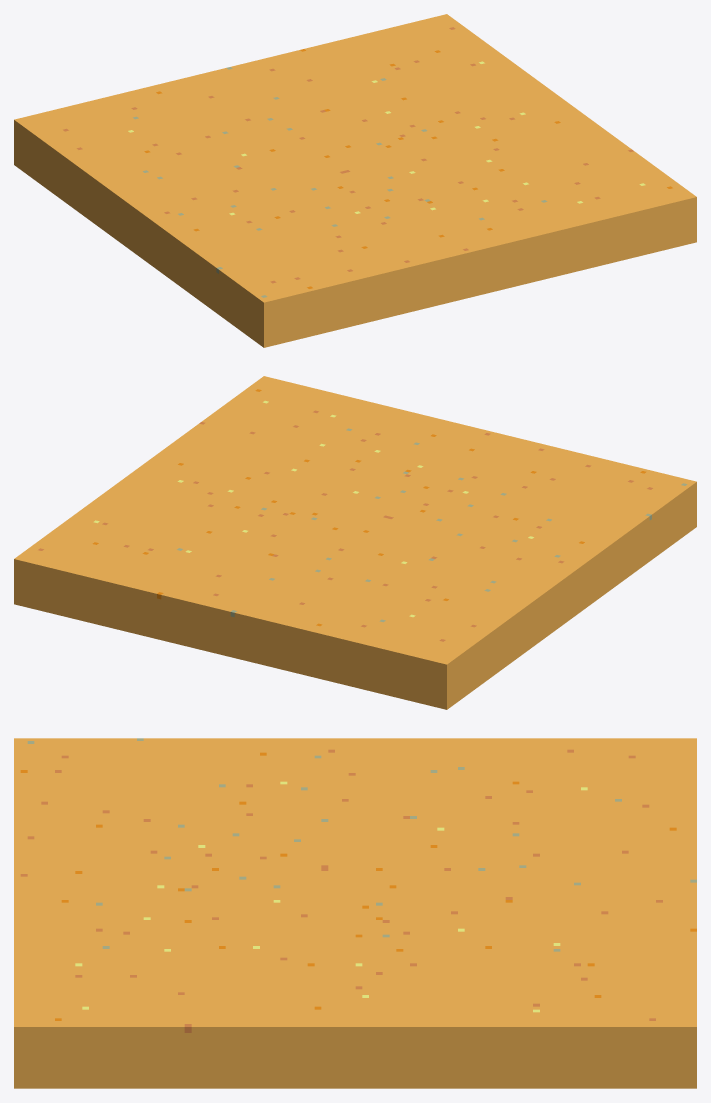
The model's file is sand2.obj.
3 views of the same model, one above another, from view 1: azimuth 30°, elevation 25°; view 2: azimuth 150°, elevation 25°; view 3: azimuth 270°, elevation 25° (orthographic). The views are drawn at different scales.
Bounding box in the file's own units: 10 × 1 × 10.
1 material, 1 textured.
